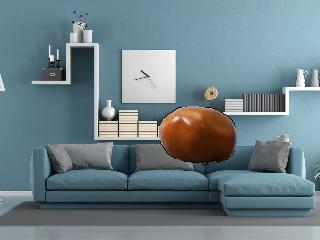potato: (154, 102, 241, 166)
